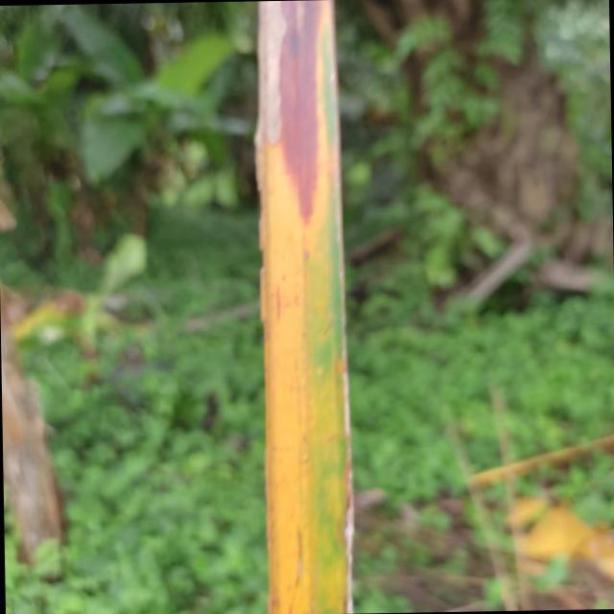Megnesium: (254, 0, 357, 614)
